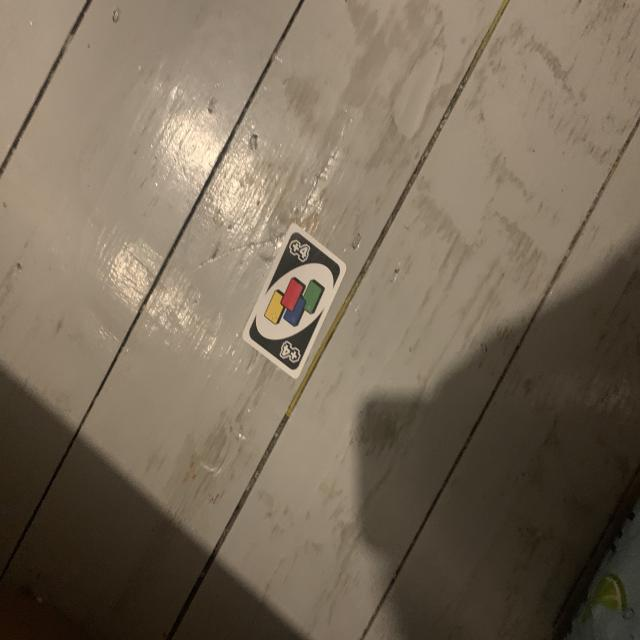lcolor-400: (284, 235, 314, 267)
